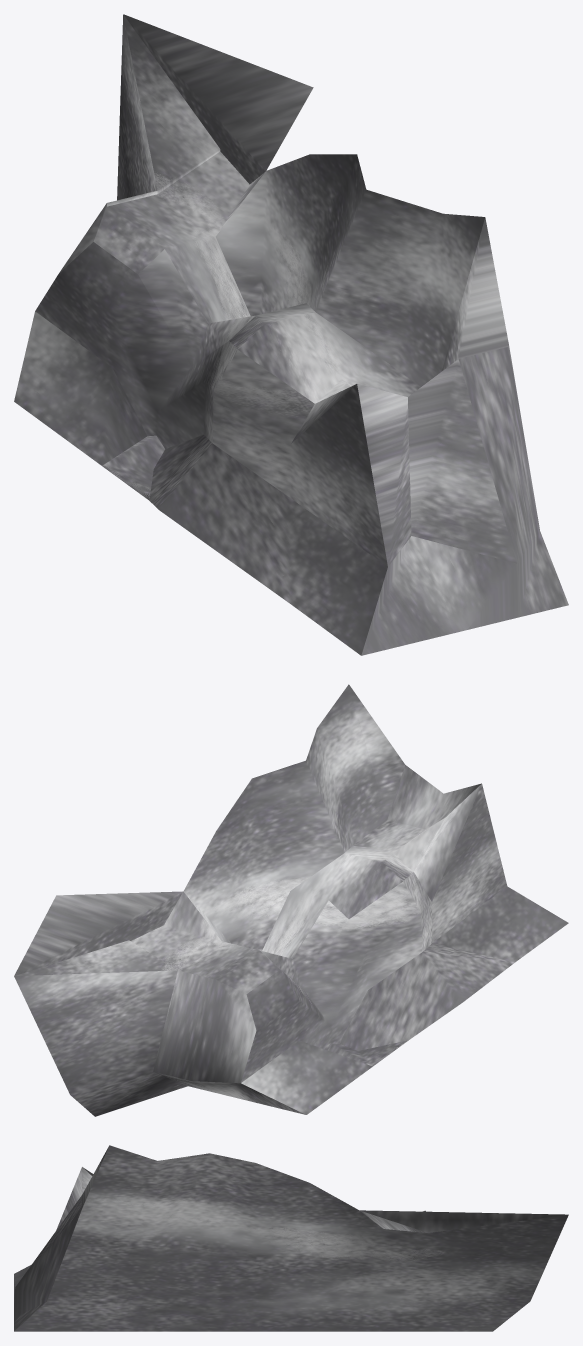
File: Mountain9 - Level 1.FBX
The picture shows the model from 3 angles, top to bottom: view 1: azimuth 30°, elevation 25°; view 2: azimuth 150°, elevation 25°; view 3: azimuth 270°, elevation 25°; orthographic projection. The views are drawn at different scales.
Parts seen in each view (by area): view 1: Mountain 9; view 2: Mountain 9; view 3: Mountain 9.
Part boxes in pixels (x1,y1,x2,y2): Mountain 9: [14, 14, 568, 655]; Mountain 9: [14, 684, 568, 1116]; Mountain 9: [14, 1145, 568, 1331].
Bounding box in the file's own units: 102 × 92.3 × 249.
Materials: 1 (1 with a texture image).
